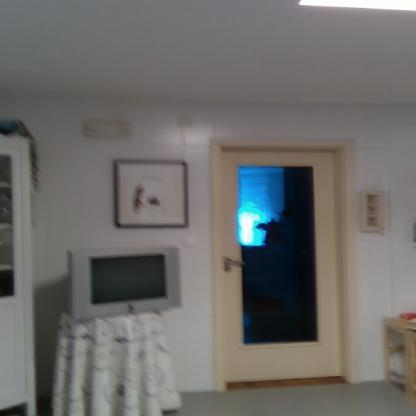door: (220, 146, 342, 378)
lever: (226, 260, 250, 268)
